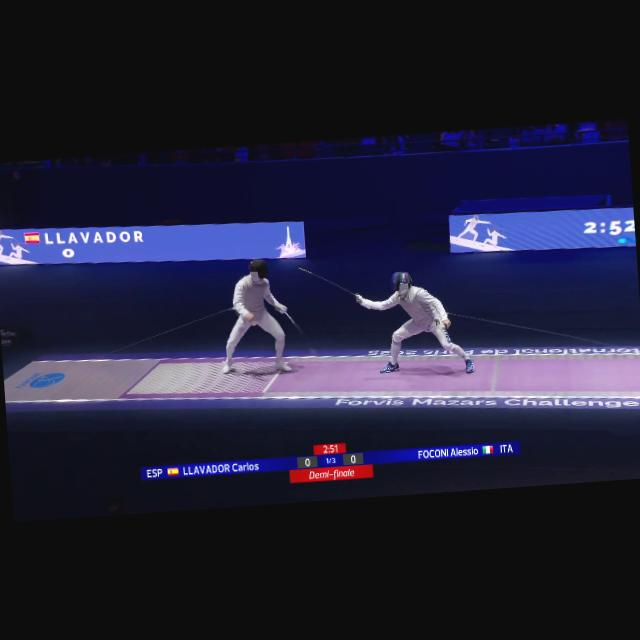blade: (295, 262, 364, 306), (280, 302, 322, 364)
